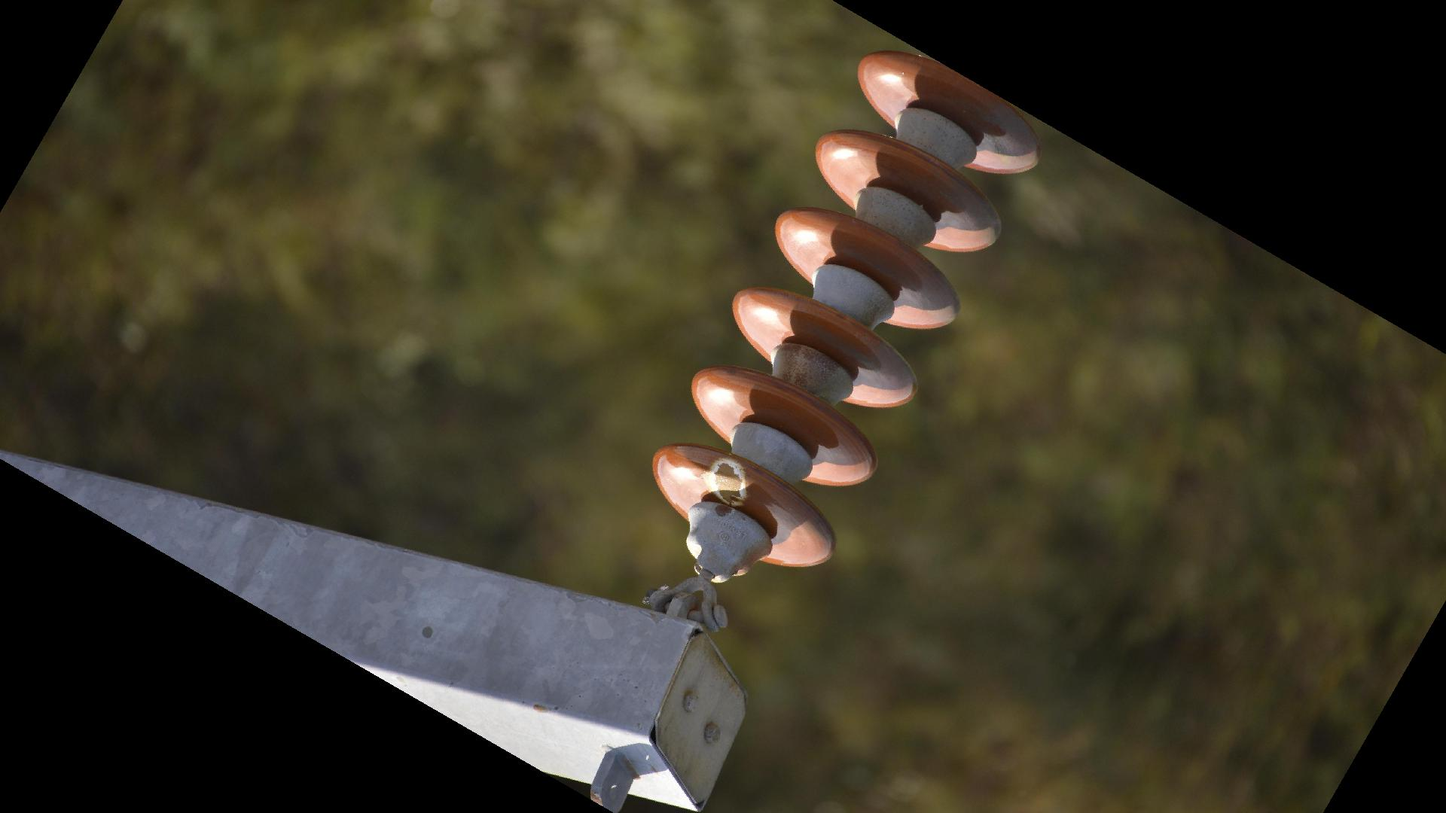insulator: (645, 47, 1054, 577)
insulator_flashover: (707, 458, 749, 510)
